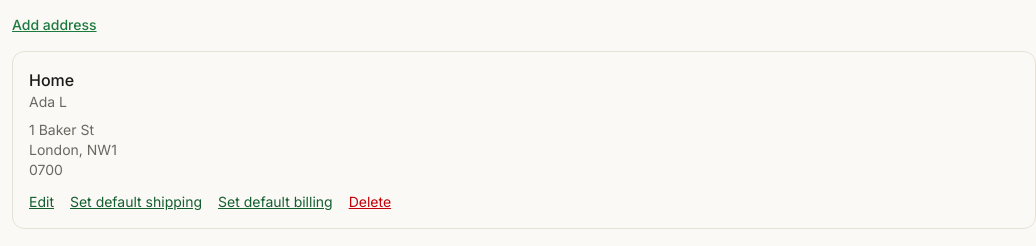
Test case: AddressBook › Set default shipping POSTs {kind: 'shipping'} and re-GETs the list
The image size is (1036, 246).
Click the button "Set default shipping". click: x=136, y=202
box: [70,192,202,212]
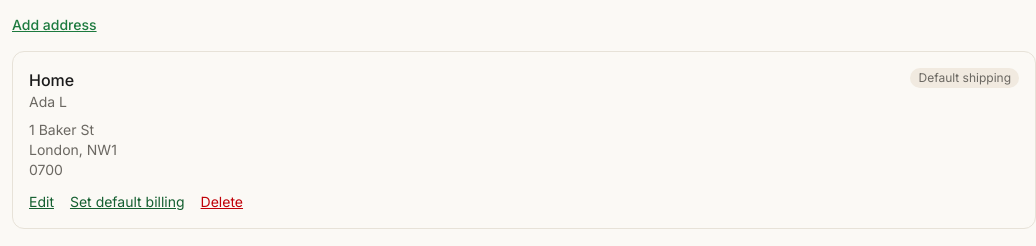
Now the button "Set default shipping" is gone
